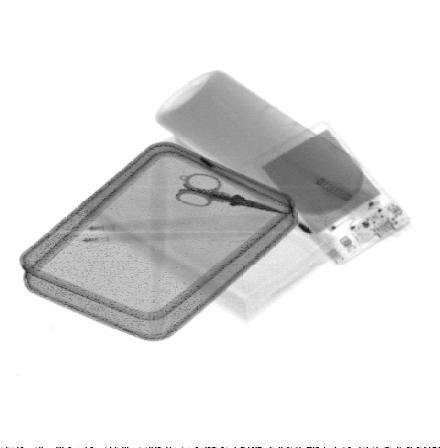Powerbank: (250, 122, 415, 267)
Scissors: (173, 172, 297, 214)
